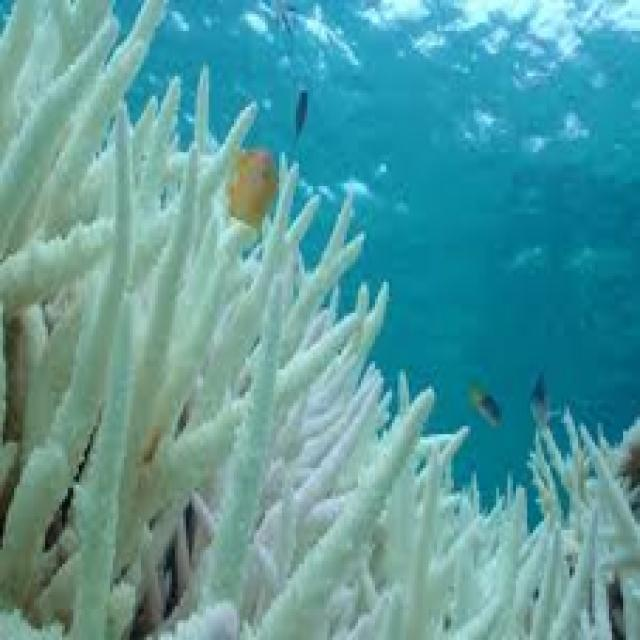Bleached: (1, 1, 157, 640), (124, 223, 383, 535), (151, 519, 578, 640), (563, 428, 640, 640), (351, 416, 453, 534), (145, 115, 229, 233)
